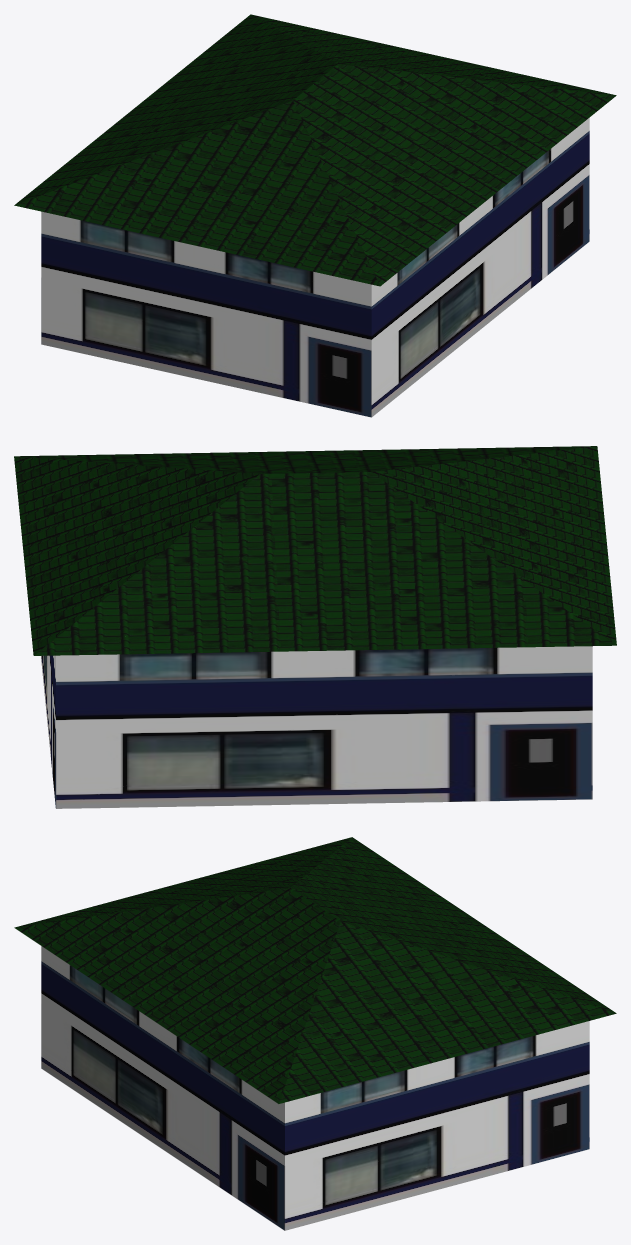
The picture shows the model from 3 angles, top to bottom: view 1: azimuth 30°, elevation 25°; view 2: azimuth 150°, elevation 25°; view 3: azimuth 270°, elevation 25°; orthographic projection. The views are drawn at different scales.
Visible parts, largest first — view 1: CityEngineMaterial_13_m, CityEngineMaterial_2_m; view 2: CityEngineMaterial_13_m, CityEngineMaterial_2_m; view 3: CityEngineMaterial_13_m, CityEngineMaterial_2_m.
Boxes of the visible parts, left/top/right/bottom form: CityEngineMaterial_13_m: left=14, top=14, right=616, bottom=286; CityEngineMaterial_2_m: left=41, top=118, right=589, bottom=417; CityEngineMaterial_13_m: left=14, top=446, right=616, bottom=655; CityEngineMaterial_2_m: left=41, top=646, right=592, bottom=808; CityEngineMaterial_13_m: left=14, top=837, right=616, bottom=1103; CityEngineMaterial_2_m: left=41, top=946, right=589, bottom=1230.
Size of the model in its own units: 30.13 by 10.74 by 28.75.
